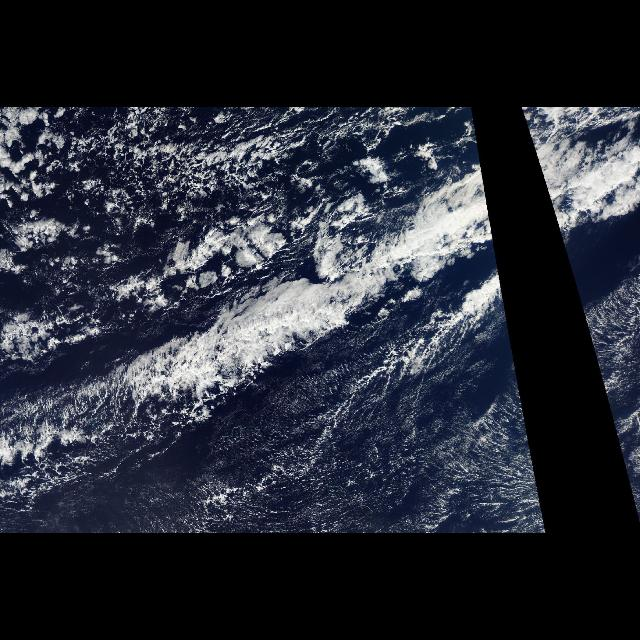Fish: (3, 276, 411, 498)
Flower: (132, 211, 332, 313)
Gravel: (9, 109, 339, 269)
Sugar: (202, 338, 546, 532), (590, 338, 638, 520)
